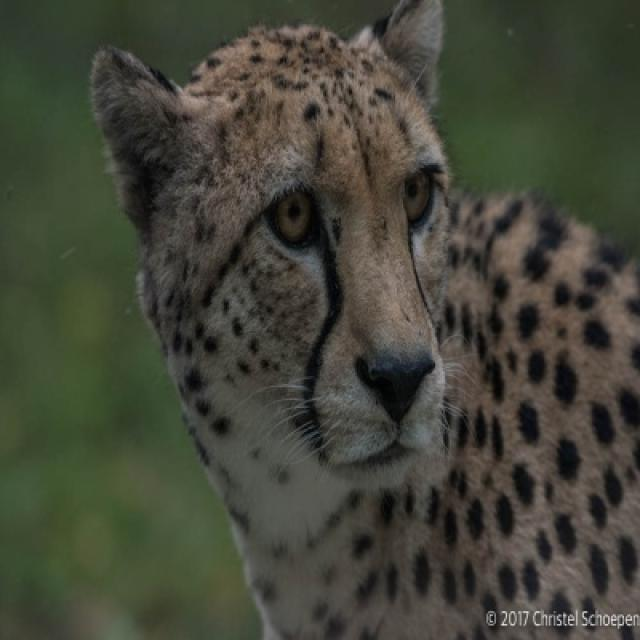Cheetah: (93, 0, 638, 638)
